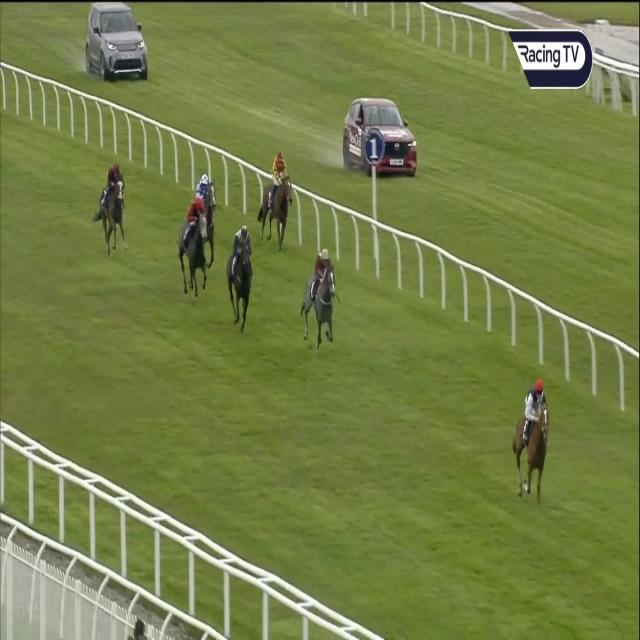horses-racing: (517, 373, 551, 504), (227, 222, 260, 342), (175, 198, 214, 296), (304, 249, 338, 351), (263, 152, 294, 247), (193, 170, 220, 266), (98, 161, 128, 246)
